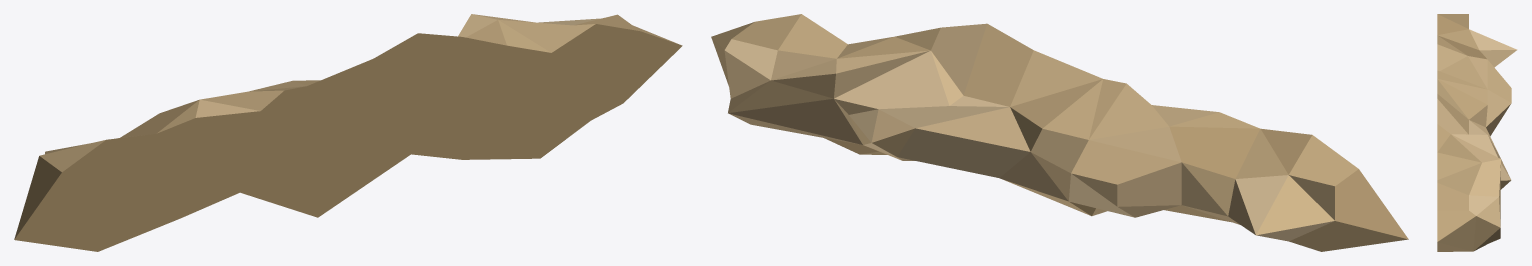
Rendered from desert_mountain_4.fbx.
3 renders of one model, left to right at view 1: azimuth 30°, elevation 25°; view 2: azimuth 150°, elevation 25°; view 3: azimuth 270°, elevation 25°, orthographic. The views are drawn at different scales.
Visible parts, largest first — view 1: desert_mountain_4; view 2: desert_mountain_4; view 3: desert_mountain_4.
Boxes of the visible parts, box(x1,y1,x2,y2) form: desert_mountain_4: box(14, 14, 682, 251); desert_mountain_4: box(711, 14, 1408, 251); desert_mountain_4: box(1437, 14, 1517, 251).
Bounding box in the file's own units: 1032 × 236 × 154.
